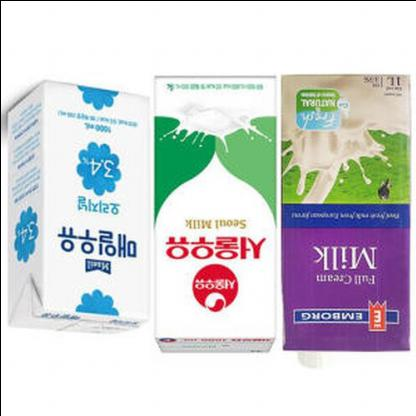tetra: (268, 60, 415, 379), (146, 61, 288, 387), (0, 73, 156, 356)
